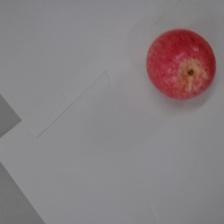red: (145, 26, 217, 102)
